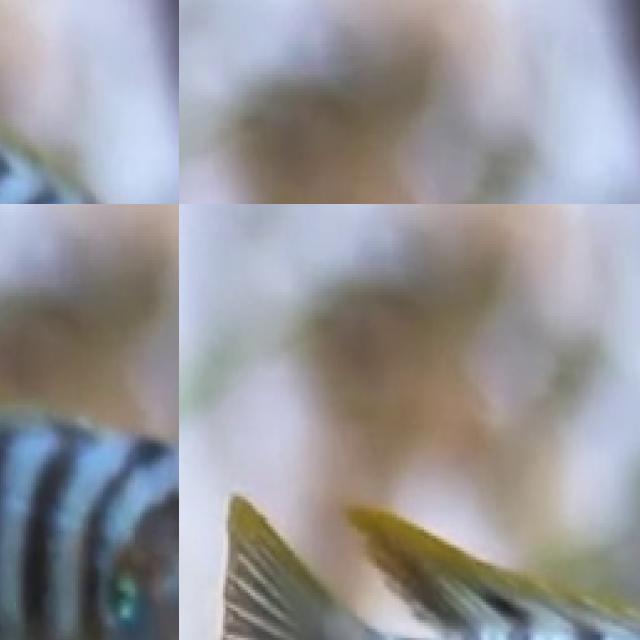fish: (179, 487, 640, 640), (0, 0, 179, 204)
